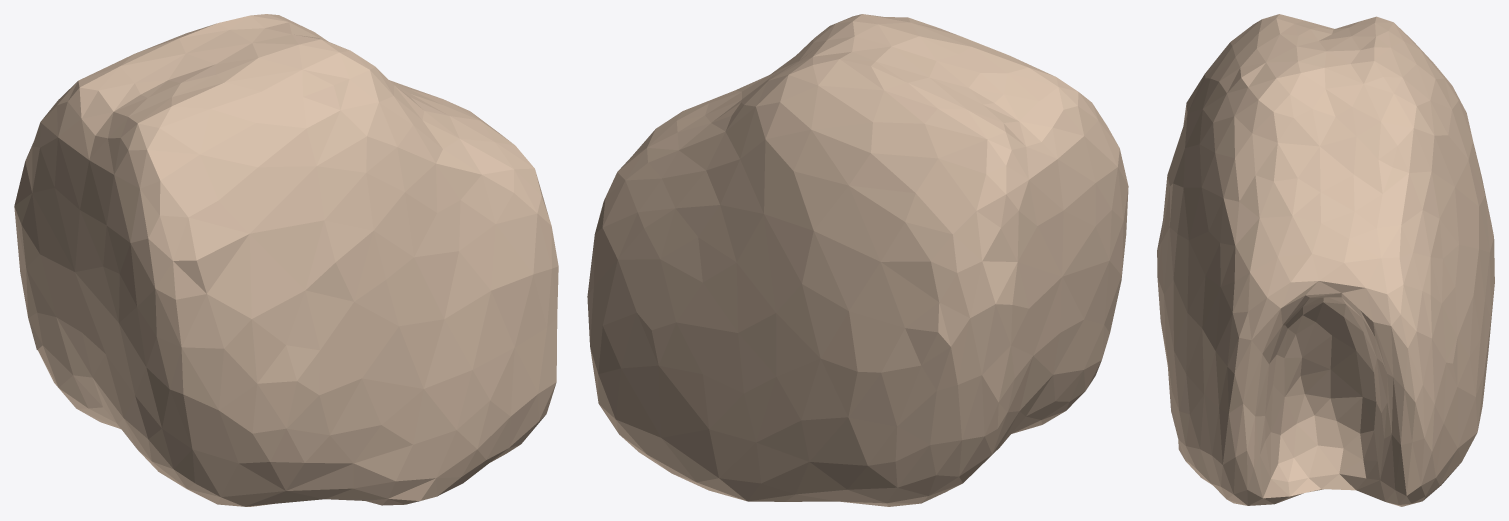
3 renders of one model, left to right at view 1: azimuth 30°, elevation 25°; view 2: azimuth 150°, elevation 25°; view 3: azimuth 270°, elevation 25°, orthographic. The views are drawn at different scales.
Visible parts, largest first — view 1: 679.obj; view 2: 679.obj; view 3: 679.obj.
Part boxes in pixels (x1,y1,x2,y2): 679.obj: (14, 14, 558, 506); 679.obj: (587, 14, 1128, 506); 679.obj: (1157, 14, 1494, 506).
Size of the model in its own units: 1108 by 1050 by 855.
